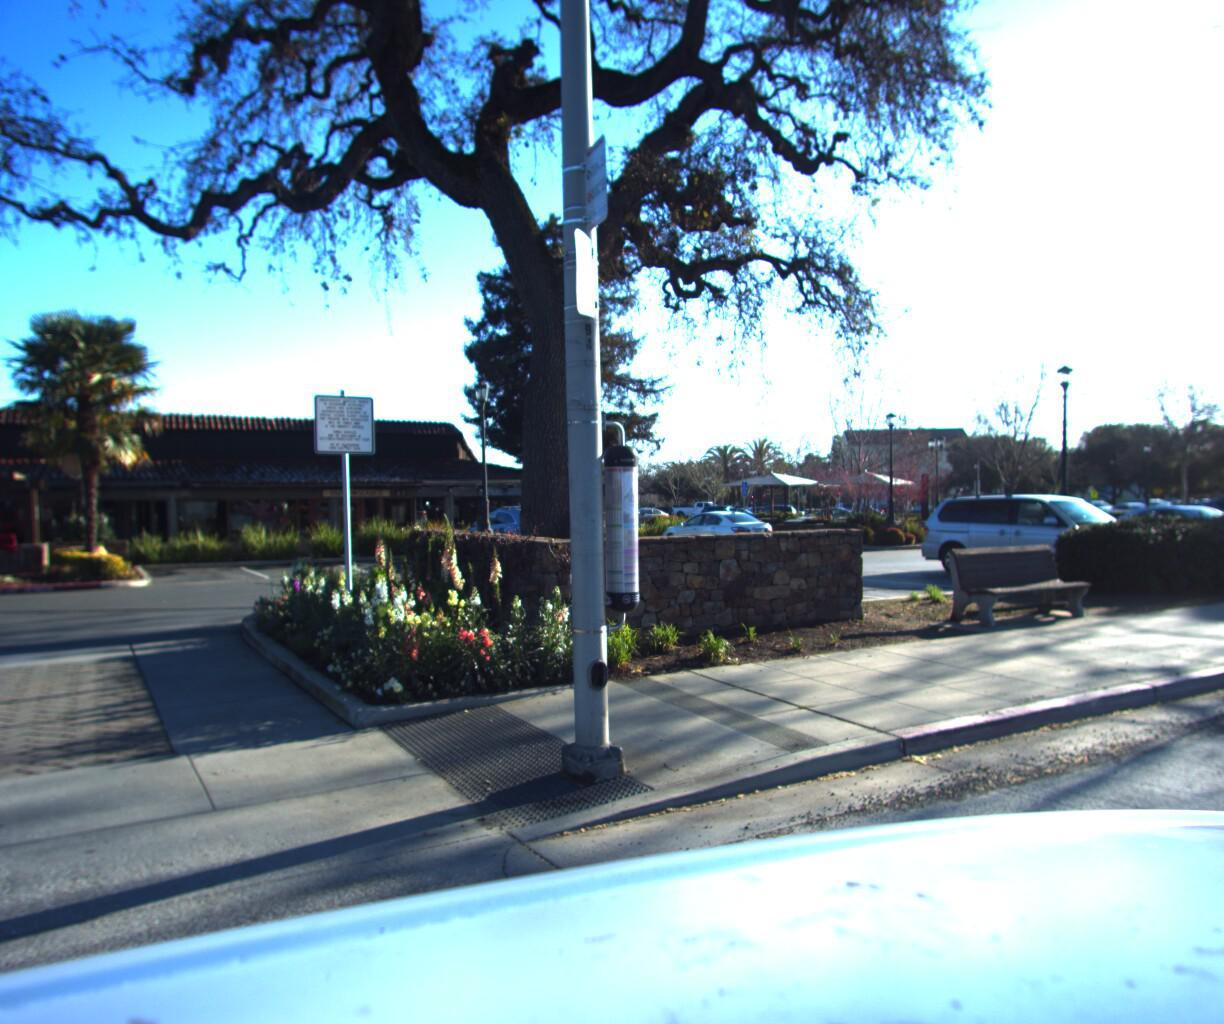car: (920, 482, 1170, 580), (1083, 497, 1224, 574), (1195, 482, 1224, 557), (1105, 496, 1174, 516)
